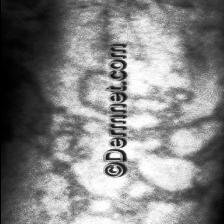Toxin: (125, 0, 224, 209), (15, 0, 99, 193)
